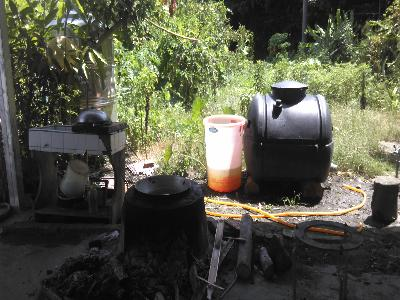bucket: (246, 80, 333, 185), (124, 172, 210, 253), (199, 112, 249, 193), (59, 158, 90, 198)
